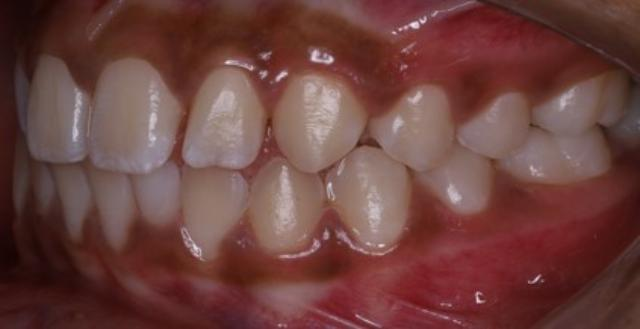canine class II 1/4: (244, 62, 414, 268)
molar class III 1/2: (492, 58, 638, 190)
